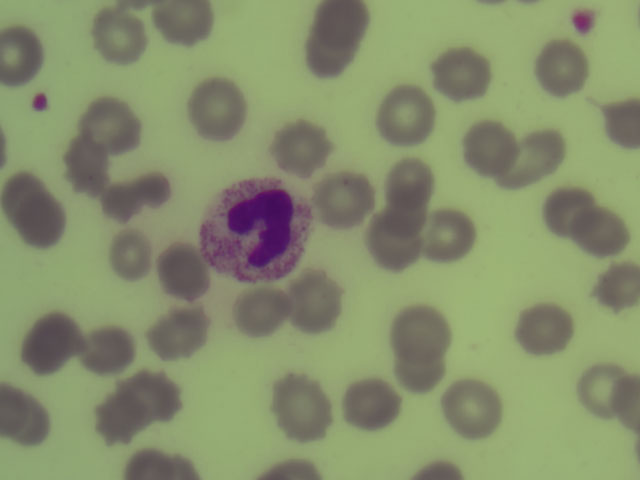Platelets: (571, 12, 594, 34), (33, 94, 48, 112)
RBC: (185, 74, 251, 142), (502, 128, 567, 190), (277, 373, 331, 442), (431, 40, 489, 102), (294, 270, 345, 338), (81, 100, 144, 154), (159, 238, 213, 301), (30, 312, 87, 371), (448, 382, 509, 436), (378, 88, 436, 144), (90, 9, 146, 67), (89, 391, 147, 446), (393, 305, 453, 357), (145, 310, 211, 356), (276, 123, 333, 176), (60, 140, 114, 194), (129, 371, 185, 423), (521, 306, 576, 358), (370, 216, 421, 272), (540, 43, 589, 100), (322, 173, 371, 228), (466, 121, 515, 176), (350, 379, 402, 430), (18, 191, 69, 242), (309, 26, 358, 79), (236, 287, 287, 337), (154, 1, 213, 44), (81, 330, 135, 376), (3, 25, 44, 85), (581, 212, 632, 257), (388, 166, 433, 216), (6, 172, 50, 222), (585, 358, 621, 419), (393, 353, 449, 391), (551, 181, 591, 234), (432, 216, 475, 263), (116, 228, 154, 280), (603, 261, 640, 314), (21, 396, 61, 445), (321, 3, 367, 43), (601, 102, 640, 149), (129, 448, 174, 480), (104, 187, 145, 222), (412, 454, 465, 480), (615, 372, 640, 427), (4, 384, 27, 442), (137, 171, 173, 208), (266, 455, 317, 480), (165, 454, 202, 480)
WBC: (202, 174, 310, 283)
